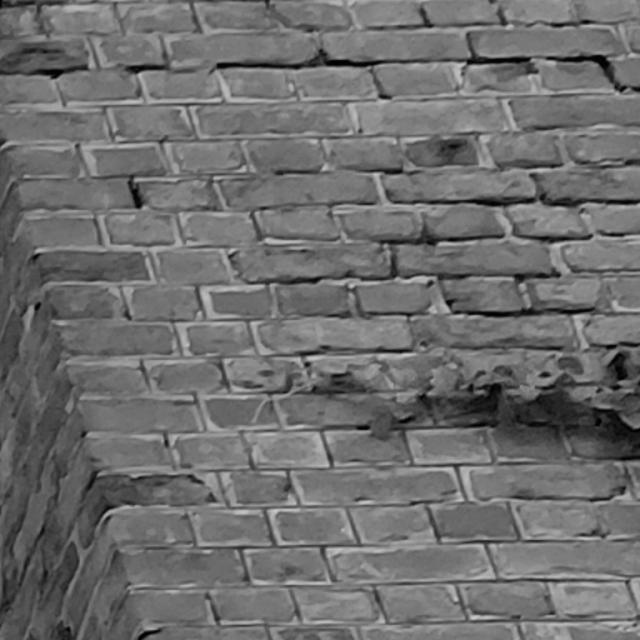crack: (1, 50, 640, 93)
